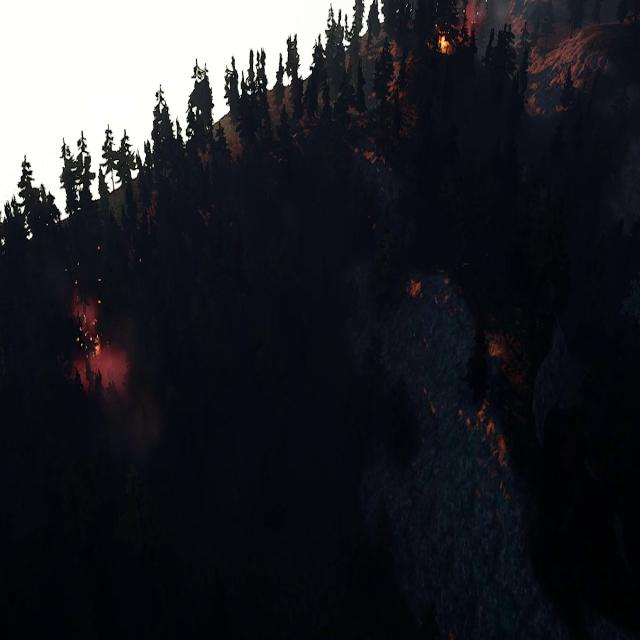fire: (70, 294, 128, 399), (438, 34, 451, 54)
smoke: (440, 0, 488, 45)
